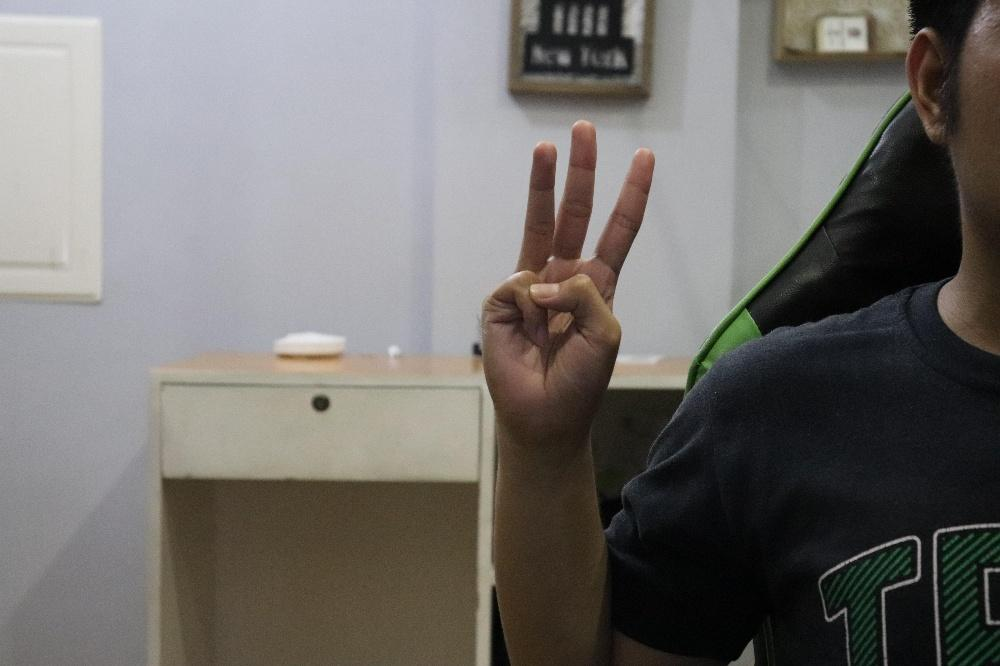w: (481, 118, 656, 435)
